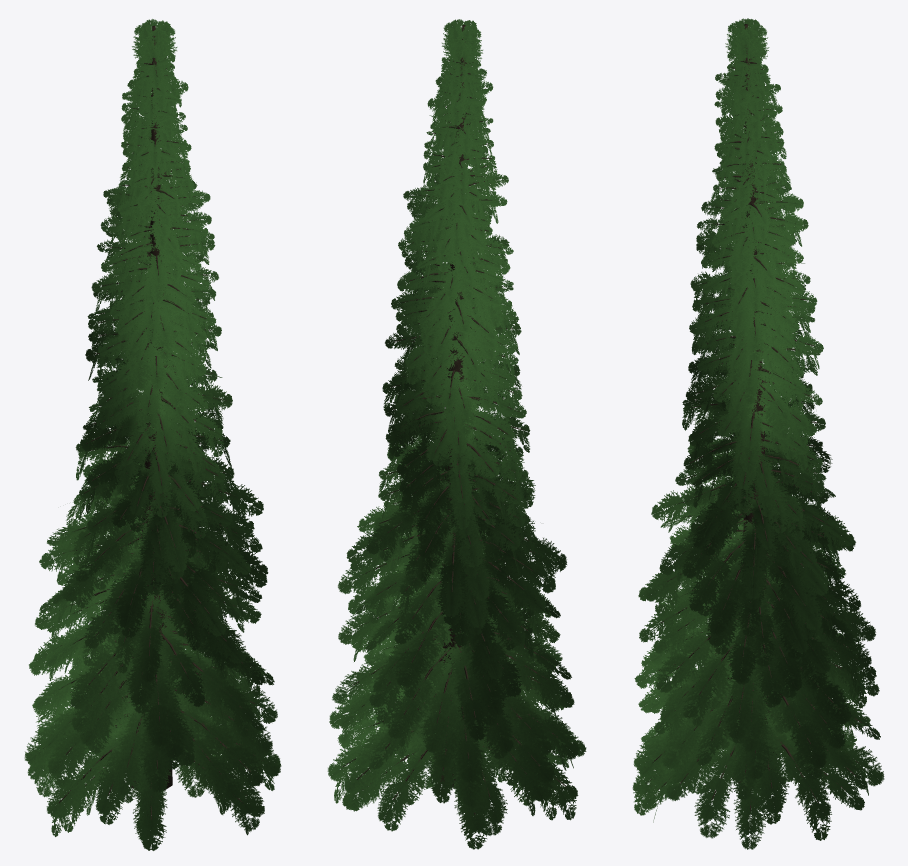
Rendered from spruce_conifer_v01_LOD1.fbx.
3 renders of one model, left to right at view 1: azimuth 30°, elevation 25°; view 2: azimuth 150°, elevation 25°; view 3: azimuth 270°, elevation 25°, orthographic.
Visible parts, largest first — view 1: spruce_conifer_v01_LOD1; view 2: spruce_conifer_v01_LOD1; view 3: spruce_conifer_v01_LOD1.
Part boxes in pixels (bbox=[...]): spruce_conifer_v01_LOD1: bbox=[24, 19, 281, 850]; spruce_conifer_v01_LOD1: bbox=[327, 19, 586, 849]; spruce_conifer_v01_LOD1: bbox=[632, 18, 884, 849].
Size of the model in its own units: 722 by 716 by 2305.
Materials: 2 (2 with a texture image).
